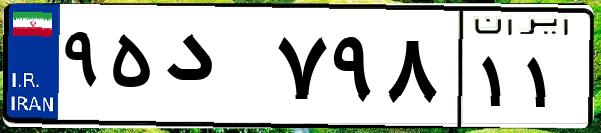1: (475, 38, 525, 113), (525, 38, 570, 115)
5: (110, 28, 158, 98)
7: (270, 28, 330, 110)
8: (385, 28, 445, 110)
9: (330, 28, 385, 110), (57, 26, 110, 100)
د: (158, 20, 270, 120)
